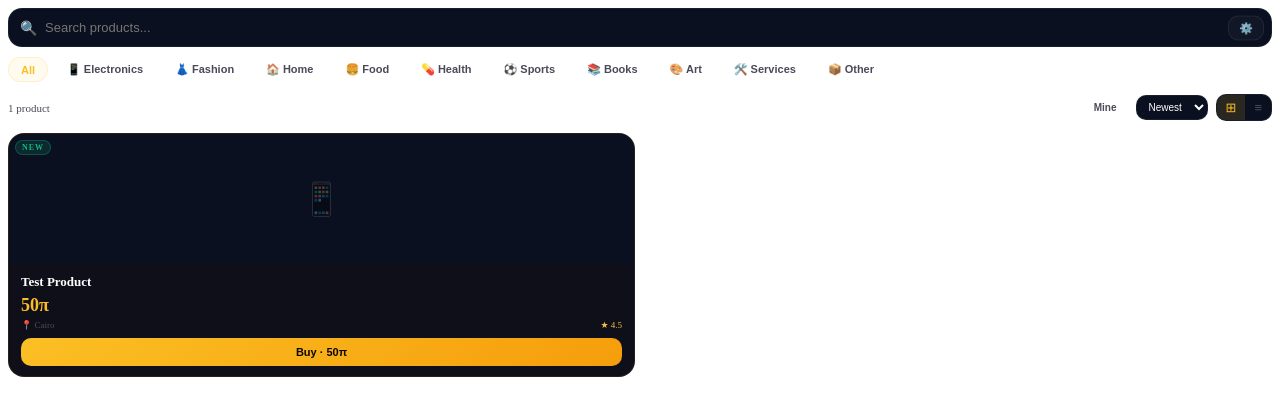
ProductsTab › بيعرض no products found لو الـ search مالقاش حاجة
The width and height of the screenshot is (1280, 394).
Step 1. Type "xyz-not-found" into the field with placeholder "Search products..." → (640, 28), box [8, 8, 1272, 47]
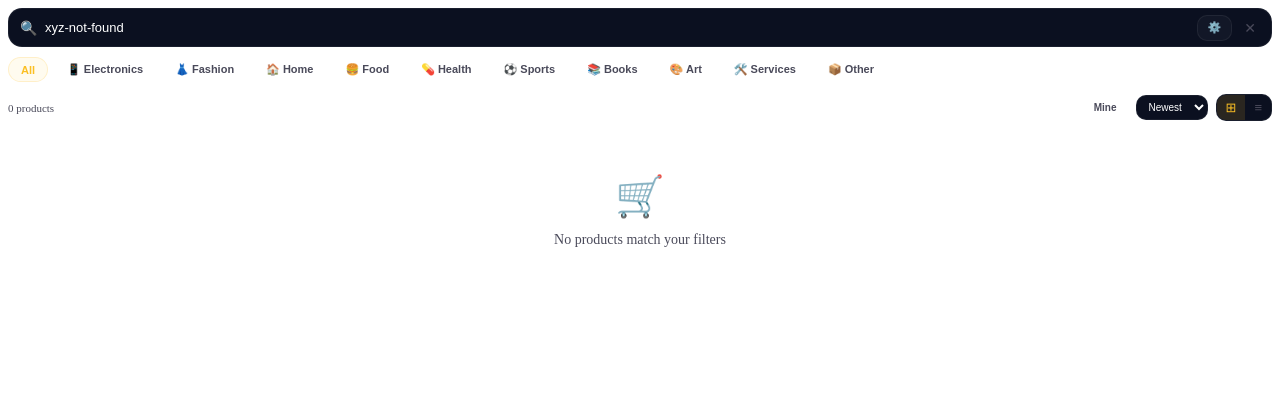
Now the text "No products match your filters" is shown, box [554, 232, 726, 247]
